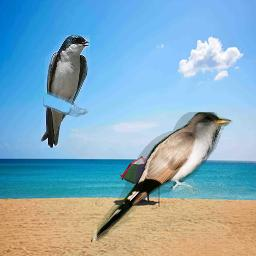Cuckoo: (91, 112, 233, 242)
Swallow: (41, 35, 90, 148)
